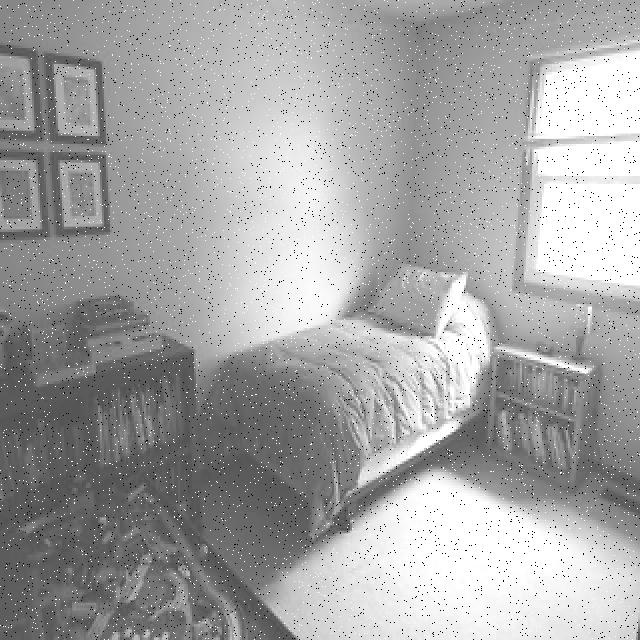bed: (204, 256, 490, 494)
